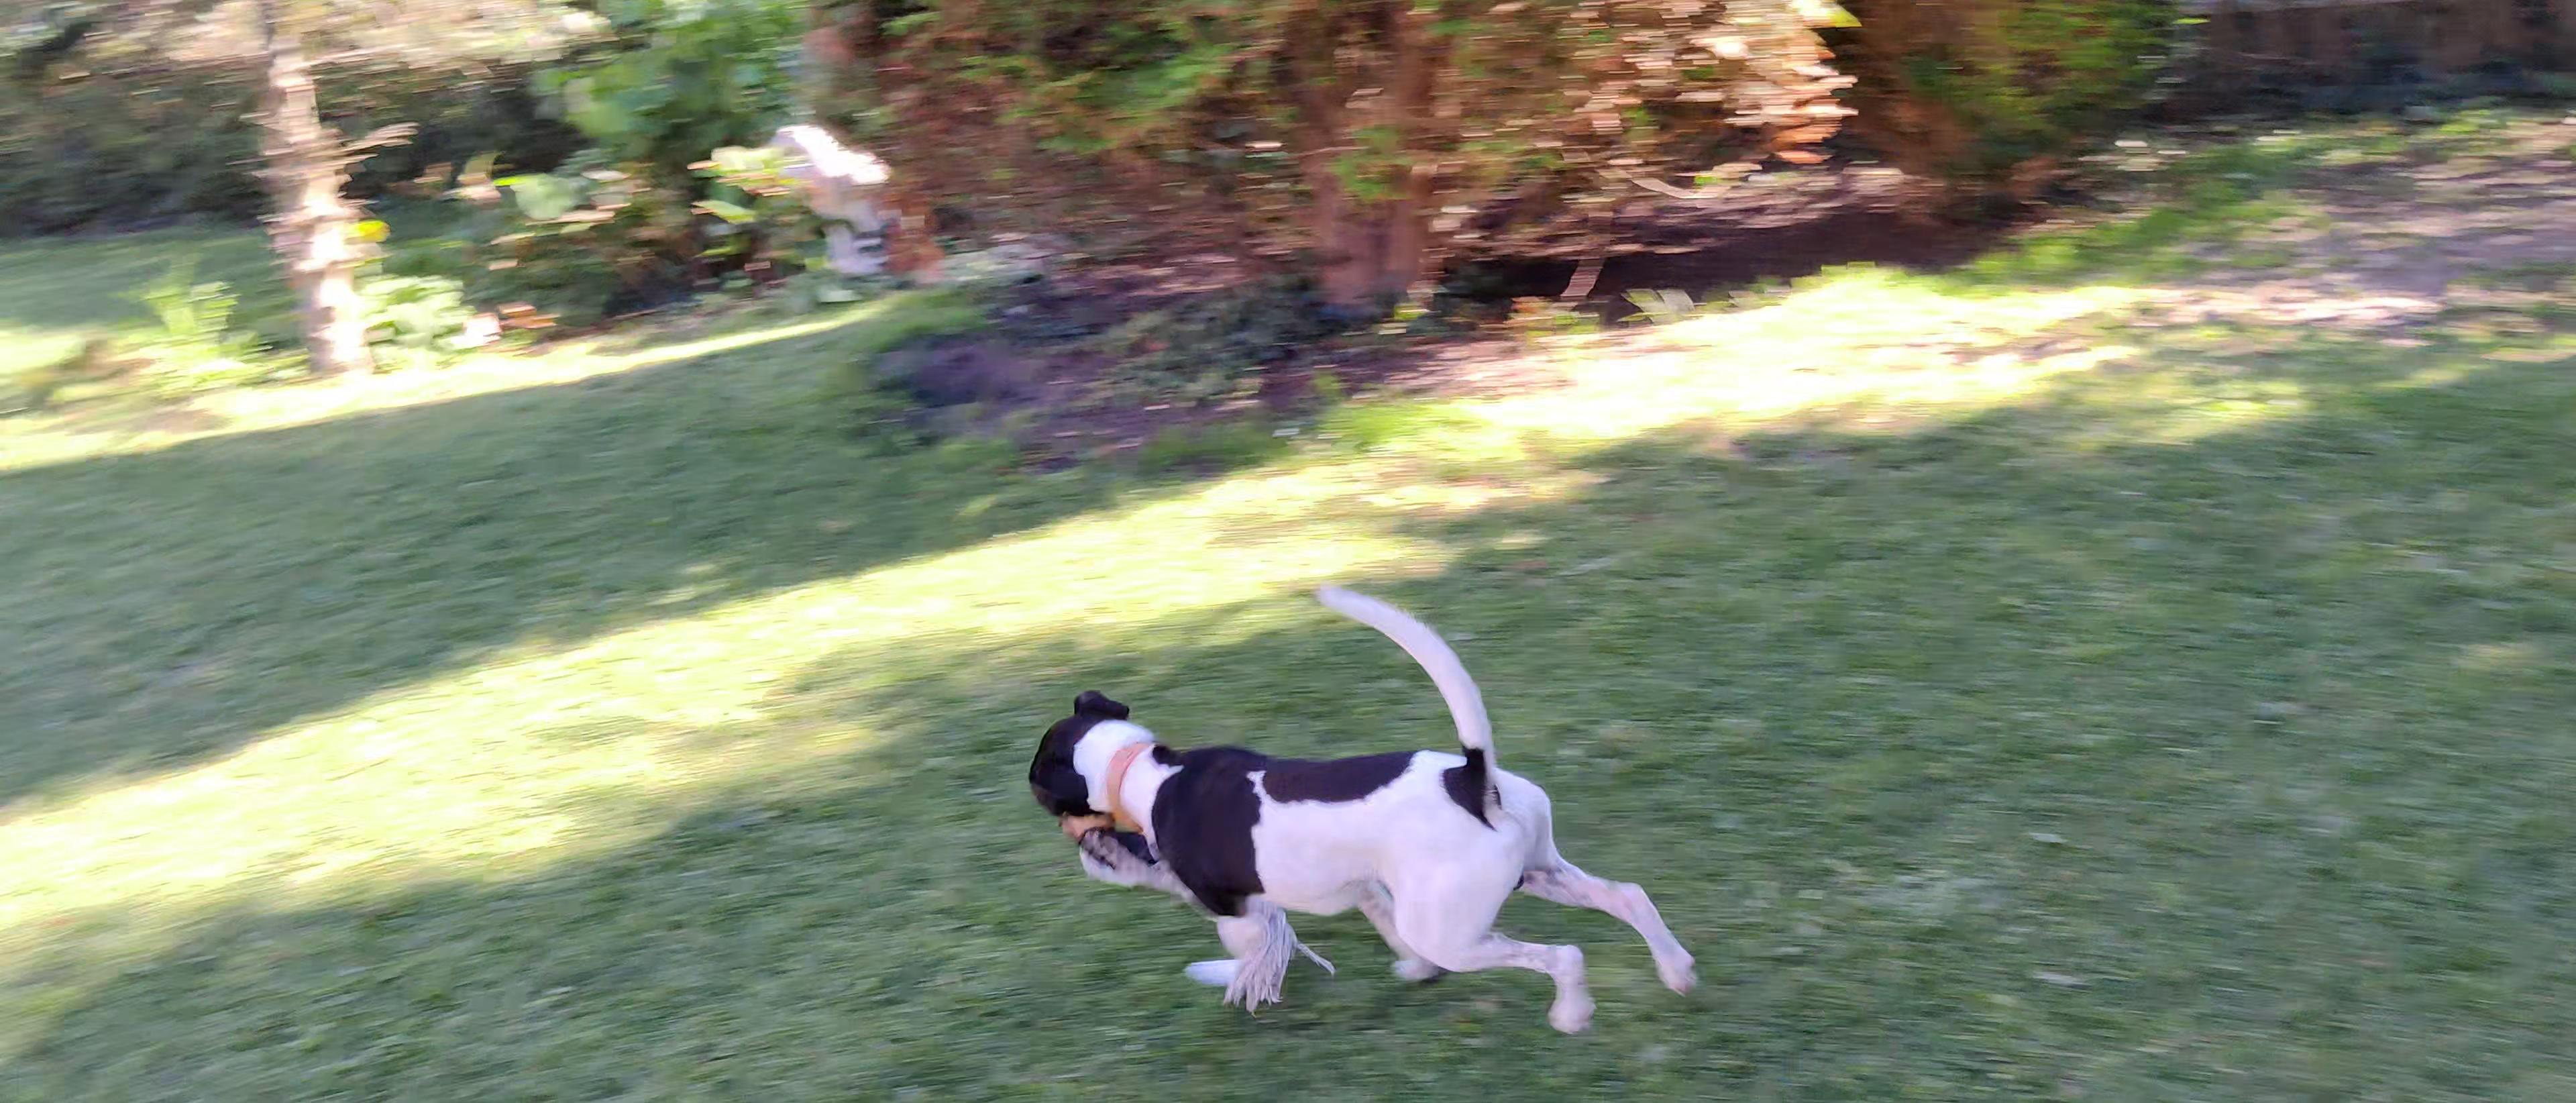Dog: (1000, 577, 1702, 1034)
